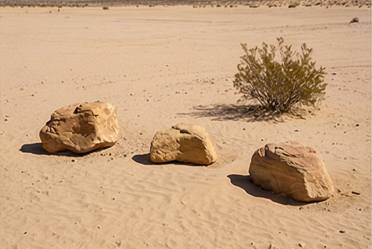rocks: (249, 142, 332, 201), (40, 102, 118, 153), (150, 123, 216, 164)
